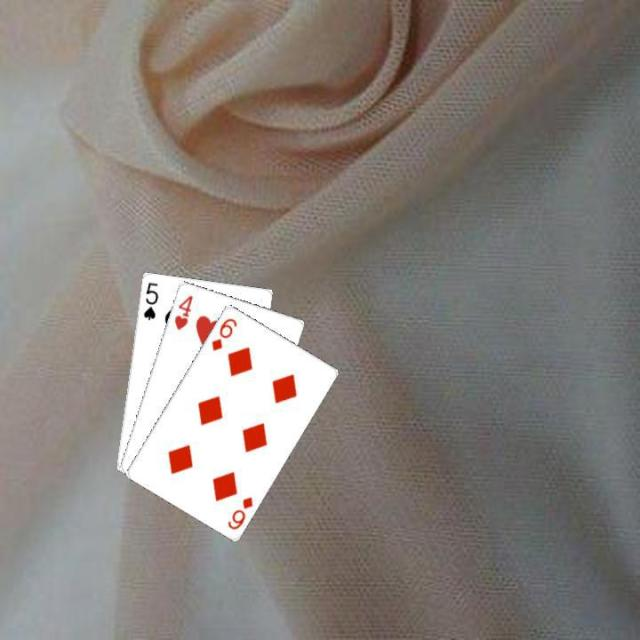4H: (170, 290, 194, 332)
5S: (139, 278, 160, 321)
6D: (223, 492, 254, 532), (207, 314, 239, 352)
